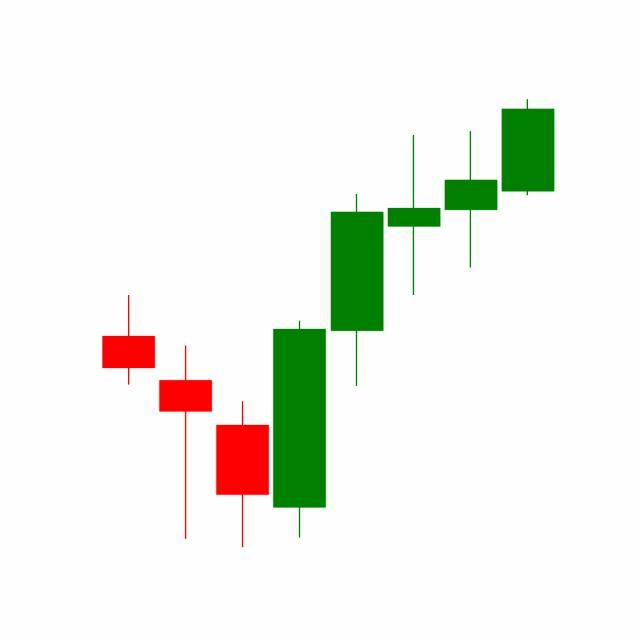Advance Block: (328, 129, 500, 390)
